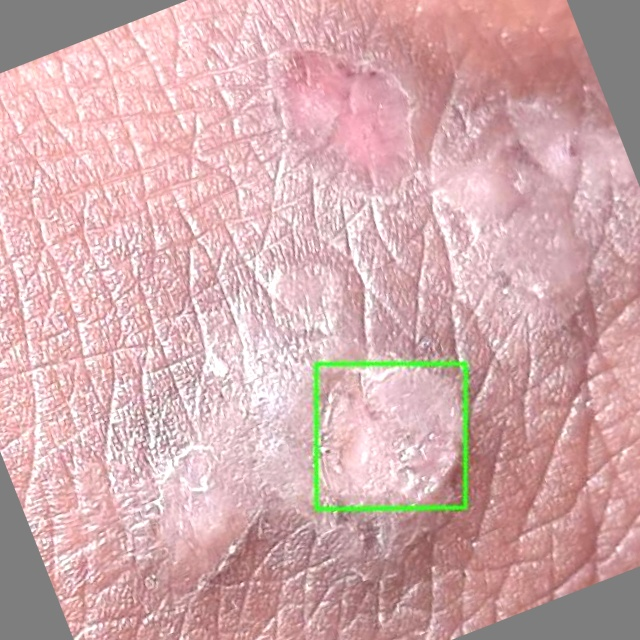Contact Dermatitis: (315, 363, 464, 508)
